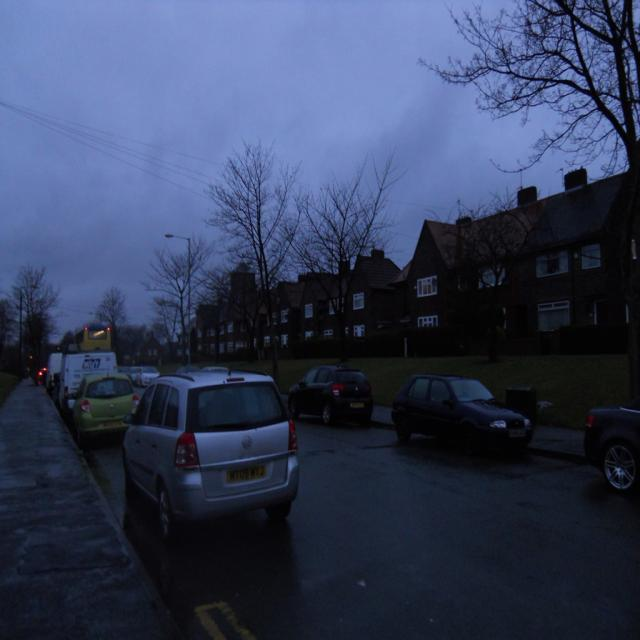car: (124, 370, 297, 538), (390, 371, 530, 459)
